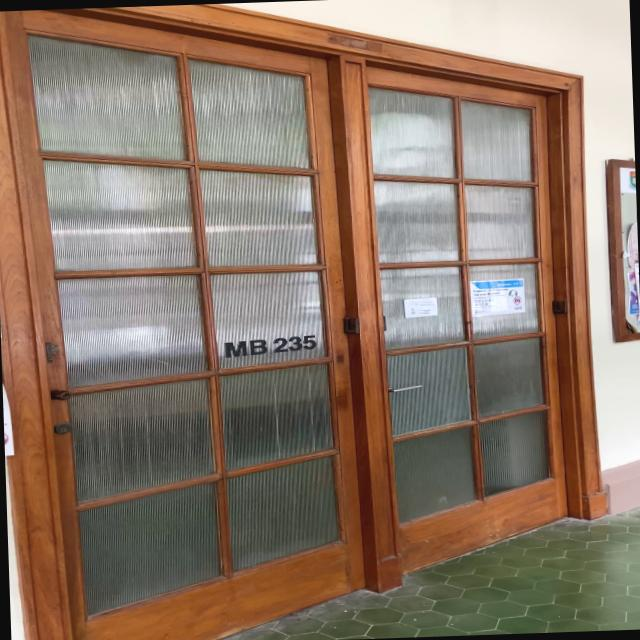room235Window: (220, 330, 324, 360)
